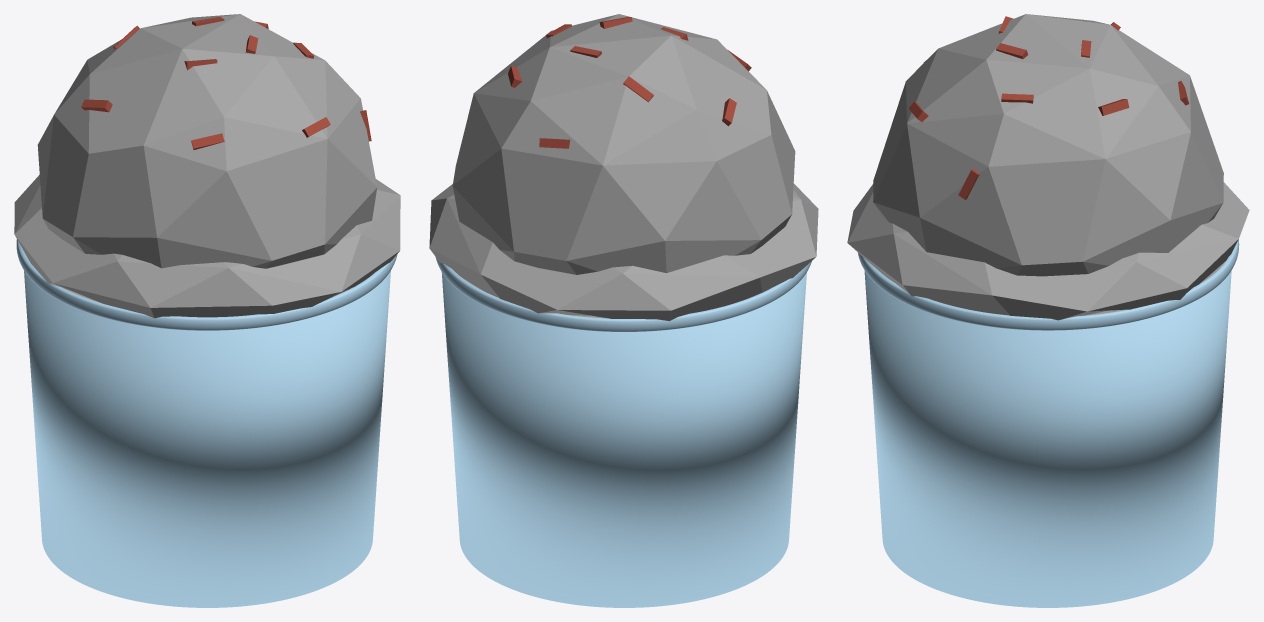
File: icecream.glb
3 renders of one model, left to right at view 1: azimuth 30°, elevation 25°; view 2: azimuth 150°, elevation 25°; view 3: azimuth 270°, elevation 25°, orthographic.
Parts seen in each view (by area): view 1: Cup, IceCream; view 2: Cup, IceCream; view 3: Cup, IceCream.
Boxes of the visible parts, x1=… form: Cup: x1=16, y1=239, x2=397, y2=607; IceCream: x1=14, y1=14, x2=400, y2=318; Cup: x1=435, y1=257, x2=811, y2=607; IceCream: x1=429, y1=14, x2=818, y2=321; Cup: x1=857, y1=239, x2=1239, y2=607; IceCream: x1=847, y1=14, x2=1249, y2=320.
Bounding box in the file's own units: 2.45 × 3.4 × 2.45.
